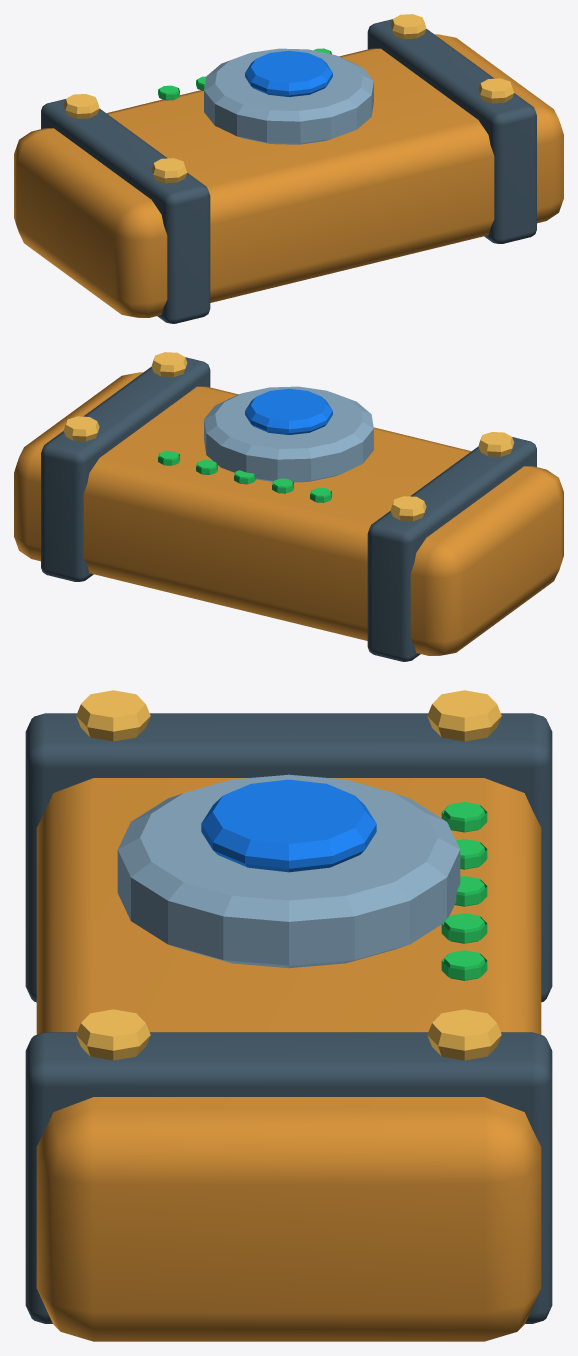
Rendered from Motor_Core.fbx.
3 renders of one model, top to bottom at view 1: azimuth 30°, elevation 25°; view 2: azimuth 150°, elevation 25°; view 3: azimuth 270°, elevation 25°, orthographic. The views are drawn at different scales.
Parts seen in each view (by area): view 1: Motor_housing, Steel_band, Steel_band.001, Motor_rotor, Motor_core, Band_rivet.002, Band_rivet.003, Band_rivet, Band_rivet.001; view 2: Motor_housing, Steel_band, Steel_band.001, Motor_rotor, Motor_core, Band_rivet.003, Band_rivet.002, Band_rivet.001, Band_rivet; view 3: Motor_housing, Motor_rotor, Steel_band.001, Steel_band, Motor_core, Band_rivet, Band_rivet.001, Band_rivet.002, Band_rivet.003, Charge_4, Charge_3, Charge_0 (+1 smaller).
Boxes of the visible parts, <box> form: Motor_housing: <box>14,34,563,317</box>; Steel_band: <box>41,99,210,323</box>; Steel_band.001: <box>367,19,536,243</box>; Motor_rotor: <box>204,48,373,144</box>; Motor_core: <box>245,50,332,96</box>; Band_rivet.002: <box>478,78,514,103</box>; Band_rivet.003: <box>390,14,426,39</box>; Band_rivet: <box>151,158,187,183</box>; Band_rivet.001: <box>63,94,99,118</box>; Motor_housing: <box>14,372,563,655</box>; Steel_band: <box>367,437,536,661</box>; Steel_band.001: <box>41,357,210,581</box>; Motor_rotor: <box>204,386,373,482</box>; Motor_core: <box>245,388,332,434</box>; Band_rivet.003: <box>63,416,99,441</box>; Band_rivet.002: <box>151,352,187,377</box>; Band_rivet.001: <box>390,496,426,521</box>; Band_rivet: <box>478,432,514,456</box>; Motor_housing: <box>36,778,541,1341</box>; Motor_rotor: <box>117,774,460,968</box>; Steel_band.001: <box>25,1032,552,1323</box>; Steel_band: <box>25,713,552,1002</box>; Motor_core: <box>201,779,376,872</box>; Band_rivet: <box>76,690,150,741</box>; Band_rivet.001: <box>427,690,501,741</box>; Band_rivet.002: <box>76,1009,150,1060</box>; Band_rivet.003: <box>427,1009,501,1060</box>; Charge_4: <box>441,950,487,980</box>; Charge_3: <box>441,913,487,943</box>; Charge_0: <box>441,802,487,832</box>.
Bounding box in the file's own units: 235 × 85 × 120.
